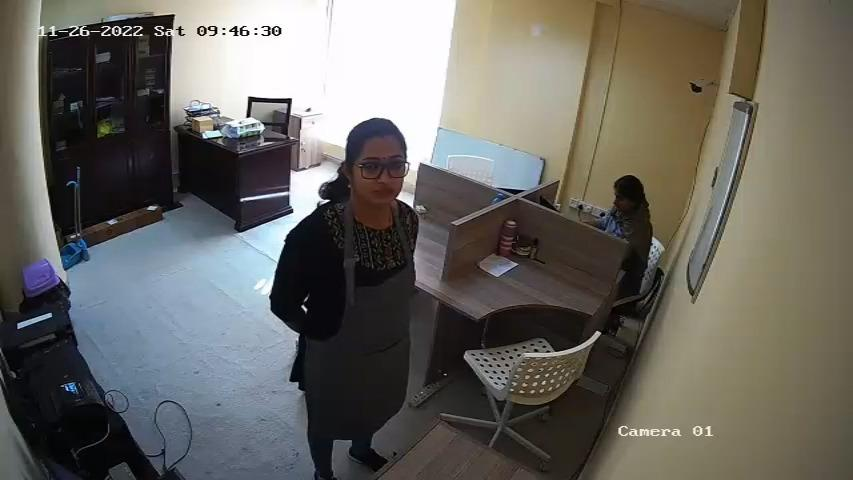apron: (320, 224, 411, 400)
